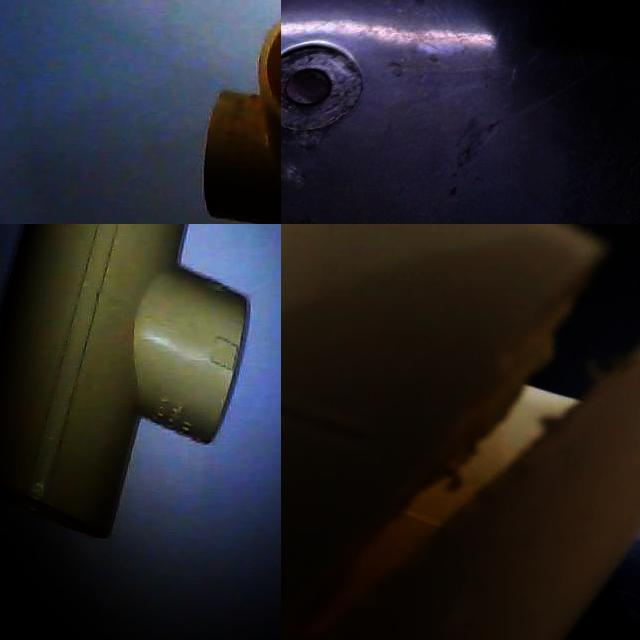Defective: (281, 370, 567, 632), (538, 225, 640, 436)
T Joint: (203, 21, 281, 224)
